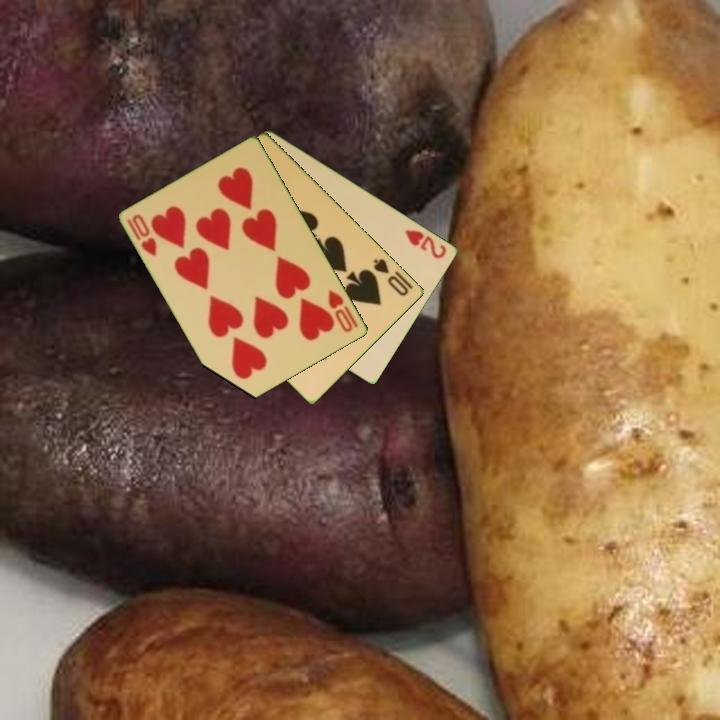10h: (325, 285, 361, 336), (124, 210, 160, 259)
10s: (370, 255, 412, 299)
2h: (402, 226, 450, 261)
